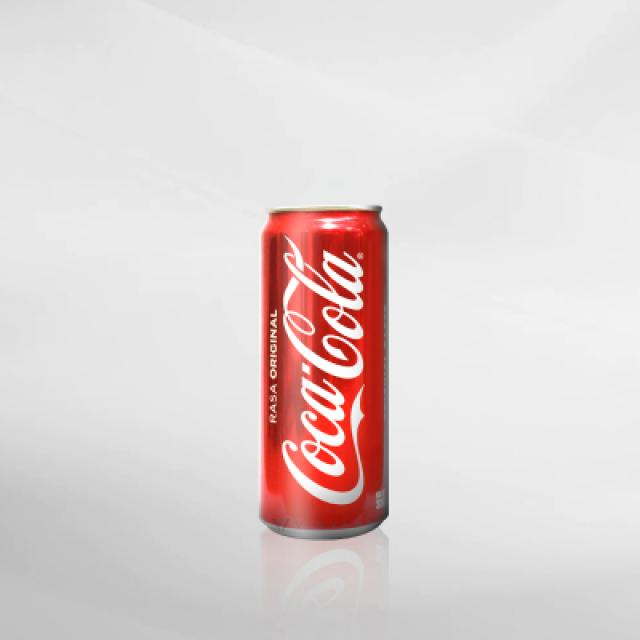cocacola: (250, 191, 398, 543)
